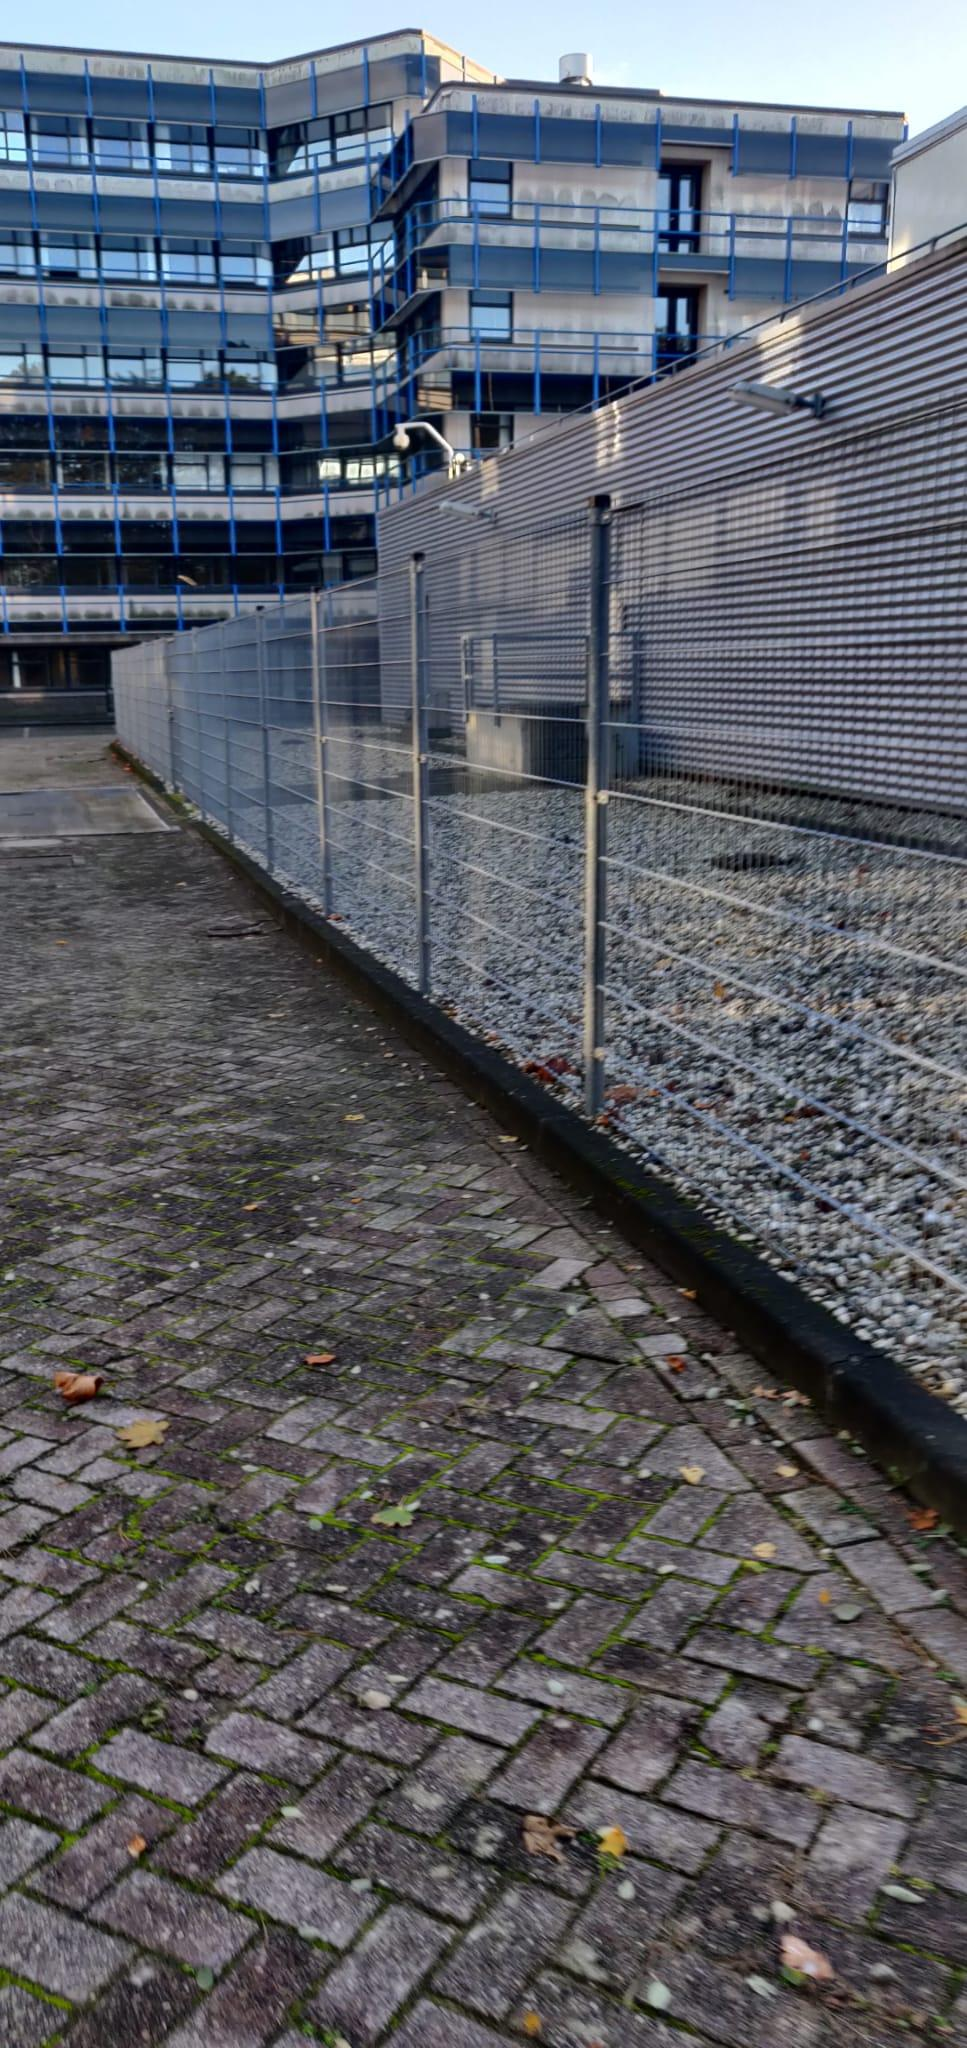obstacle: (21, 680, 967, 2038)
